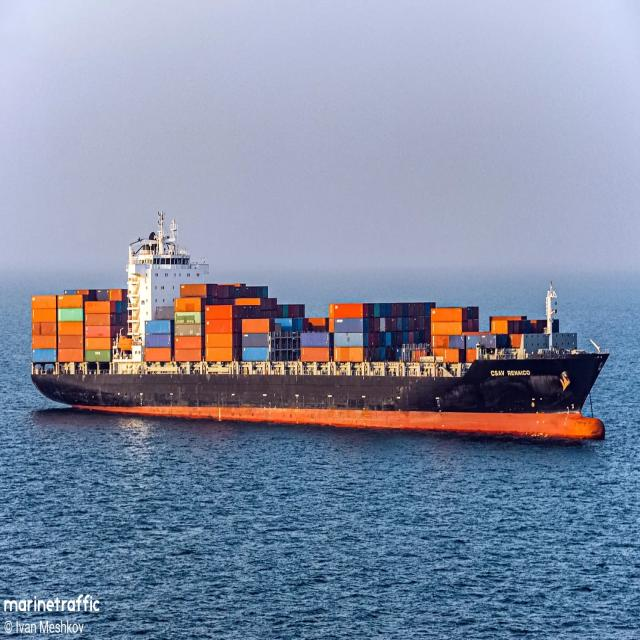Cargo: (31, 214, 608, 438)
